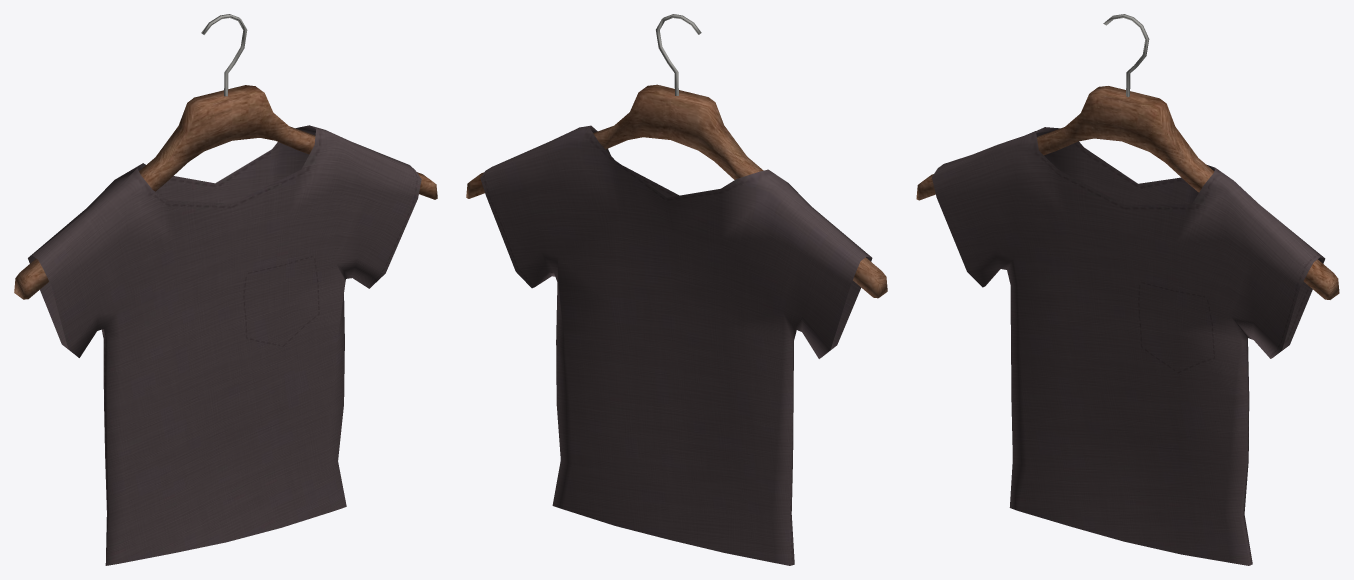
File: clothe1.fbx
The picture shows the model from 3 angles, left to right: view 1: azimuth 30°, elevation 25°; view 2: azimuth 150°, elevation 25°; view 3: azimuth 330°, elevation 25°; orthographic projection.
Visible parts, largest first — view 1: clothes1, Hanger1; view 2: clothes1, Hanger1; view 3: clothes1, Hanger1.
Part boxes in pixels (x1,y1,x2,y2): clothes1: (28, 125, 421, 565); Hanger1: (14, 14, 437, 299); clothes1: (480, 125, 872, 565); Hanger1: (466, 14, 887, 298); clothes1: (932, 127, 1325, 565); Hanger1: (916, 14, 1339, 299).
Size of the model in its own units: 44.11 by 53.44 by 3.94.
Materials: 2 (2 with a texture image).
